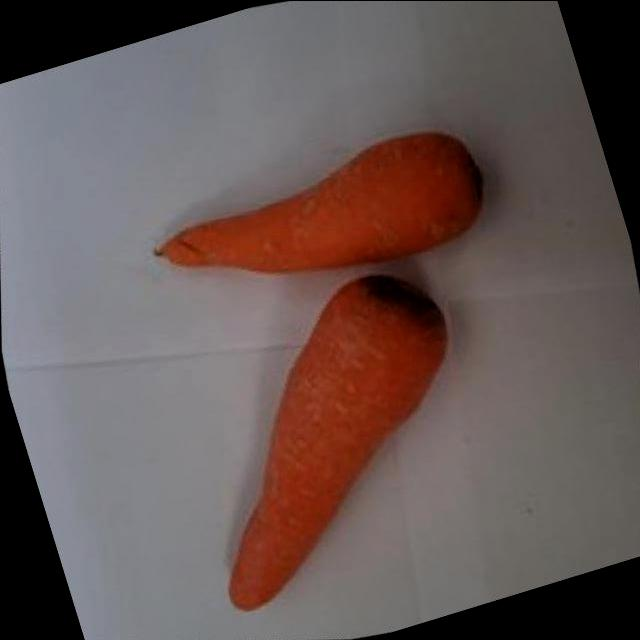carrot: (75, 172, 583, 640), (78, 17, 548, 405)
